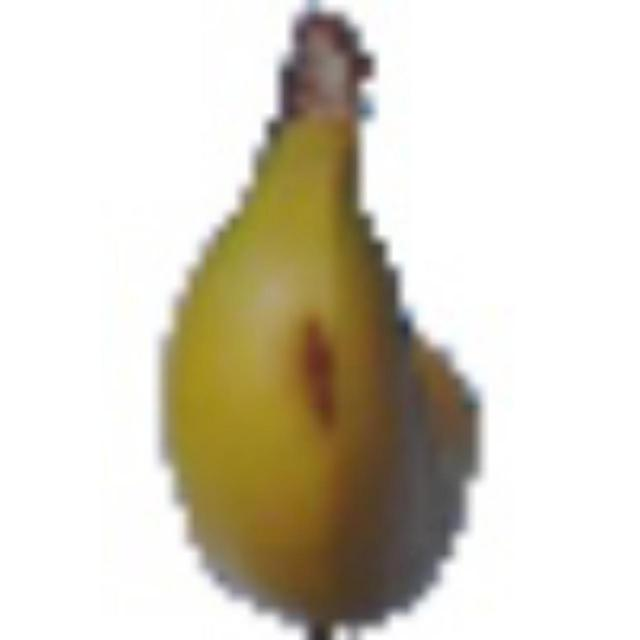banana: (115, 0, 505, 634)
